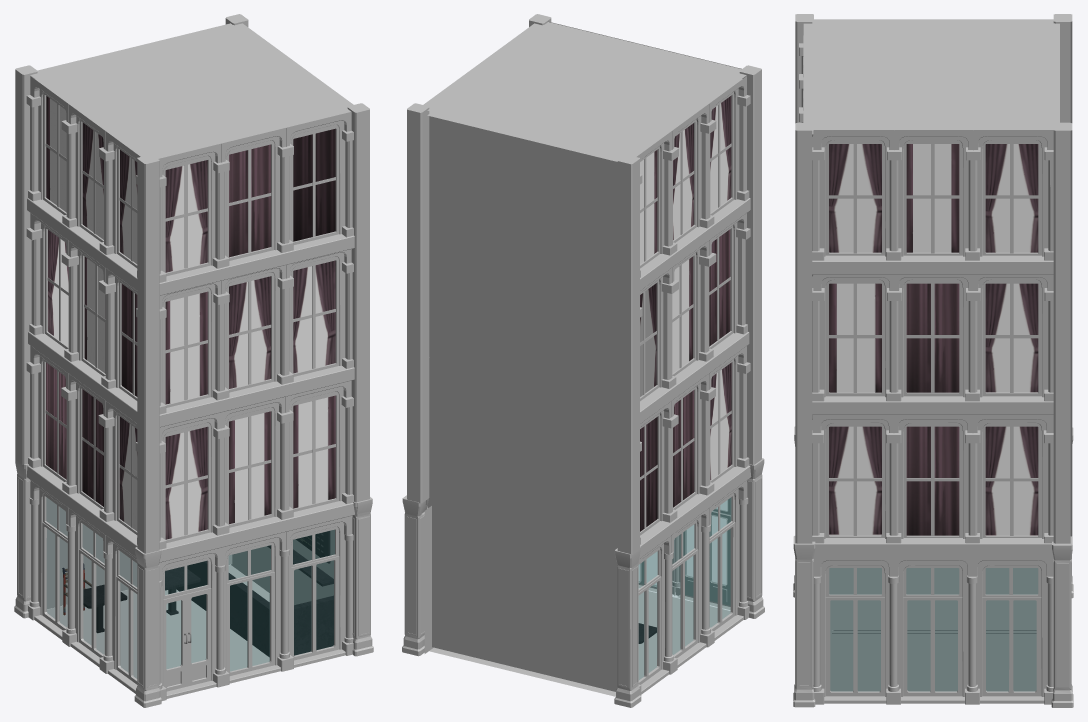
File: Building_10.FBX
3 views of the same model, side by side, from view 1: azimuth 30°, elevation 25°; view 2: azimuth 150°, elevation 25°; view 3: azimuth 270°, elevation 25° (orthographic). The views are drawn at different scales.
Parts seen in each view (by area): view 1: building10, window3, window2, window1, Object001, inside; view 2: building10, window1, Object001, window2, window3; view 3: building10, unvisible_window, window1, window3, window2.
Part boxes in pixels (x1,y1,x2,y2): building10: (14,14,373,707); window3: (46,122,335,508); window2: (46,96,270,539); window1: (82,150,270,524); Object001: (46,497,334,678); inside: (83,531,333,657); building10: (402,14,764,707); window1: (673,96,731,507); Object001: (638,498,731,679); window2: (640,150,731,479); window3: (640,123,693,531); building10: (793,14,1073,707); unvisible_window: (829,568,1037,691); window1: (906,144,1038,535); window3: (829,144,1038,535); window2: (829,144,959,392).
Size of the model in its own units: 573 by 1283 by 567.
